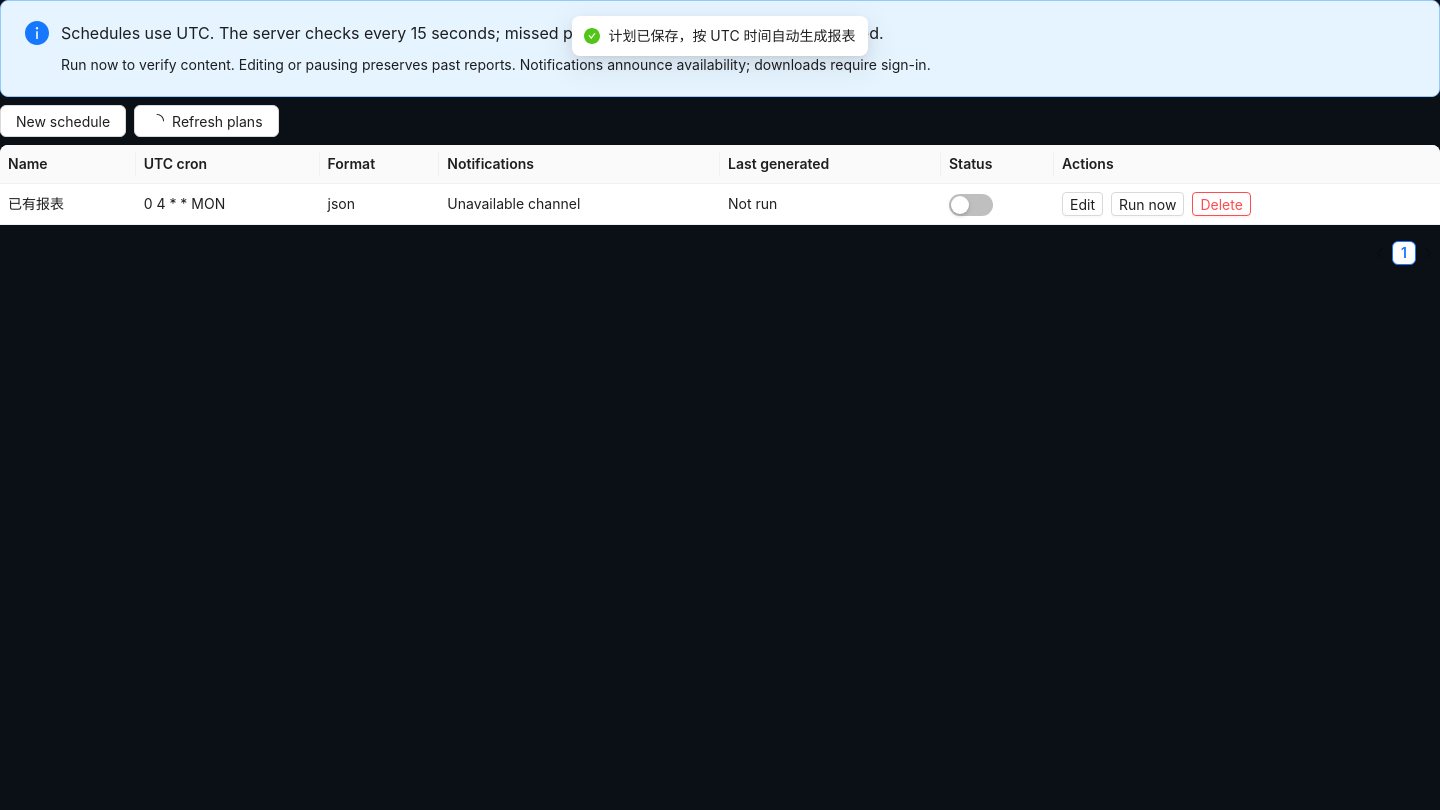
it: keeps the edited form after a version conflict and does not report success
Click the button "Edit" at coordinates (1083, 204), box x1=1062 y1=192 x2=1103 y2=216
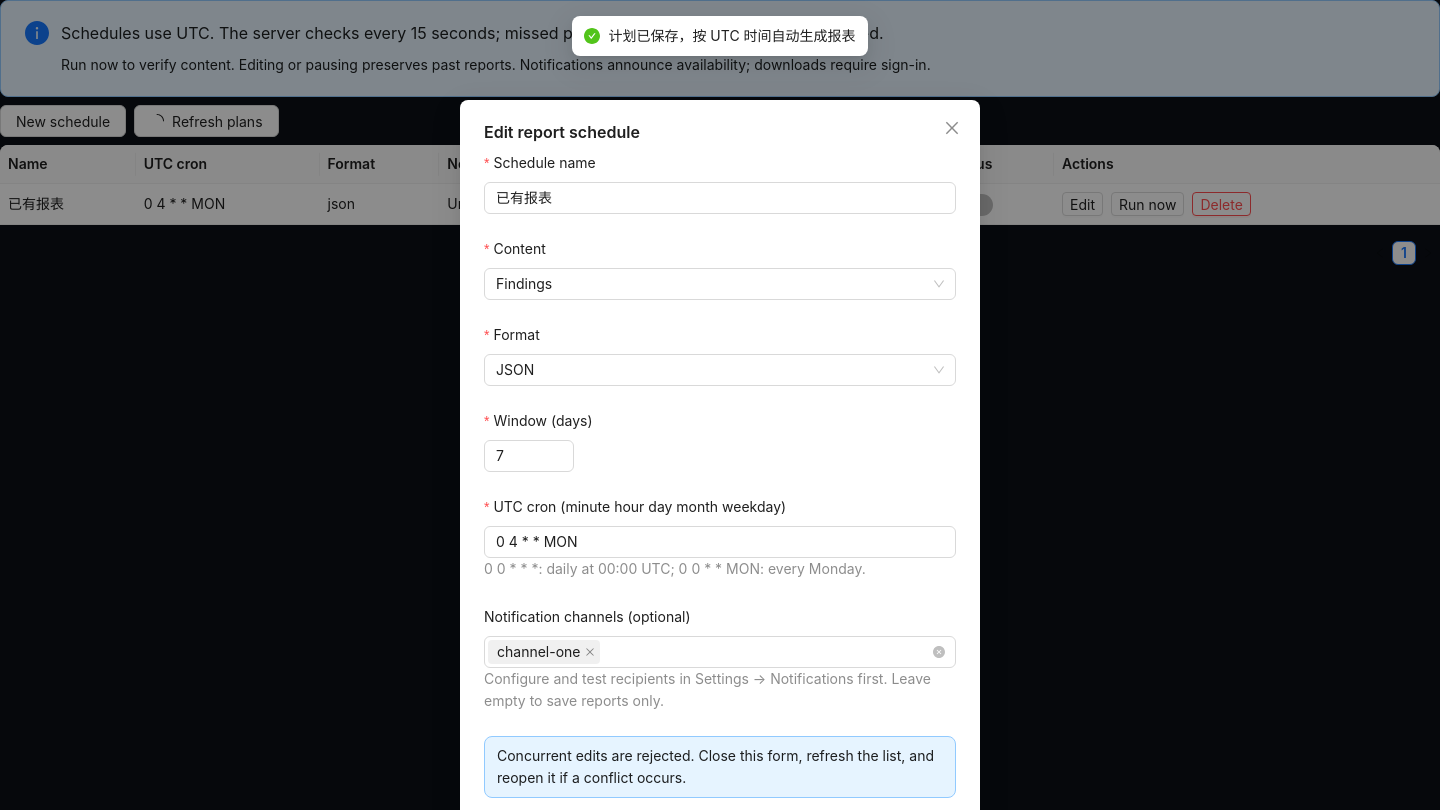
Replace the text in the field labelled "Schedule name" with "Unsaved edit" at coordinates (720, 198), box x1=484 y1=182 x2=956 y2=214
(page scrolled)
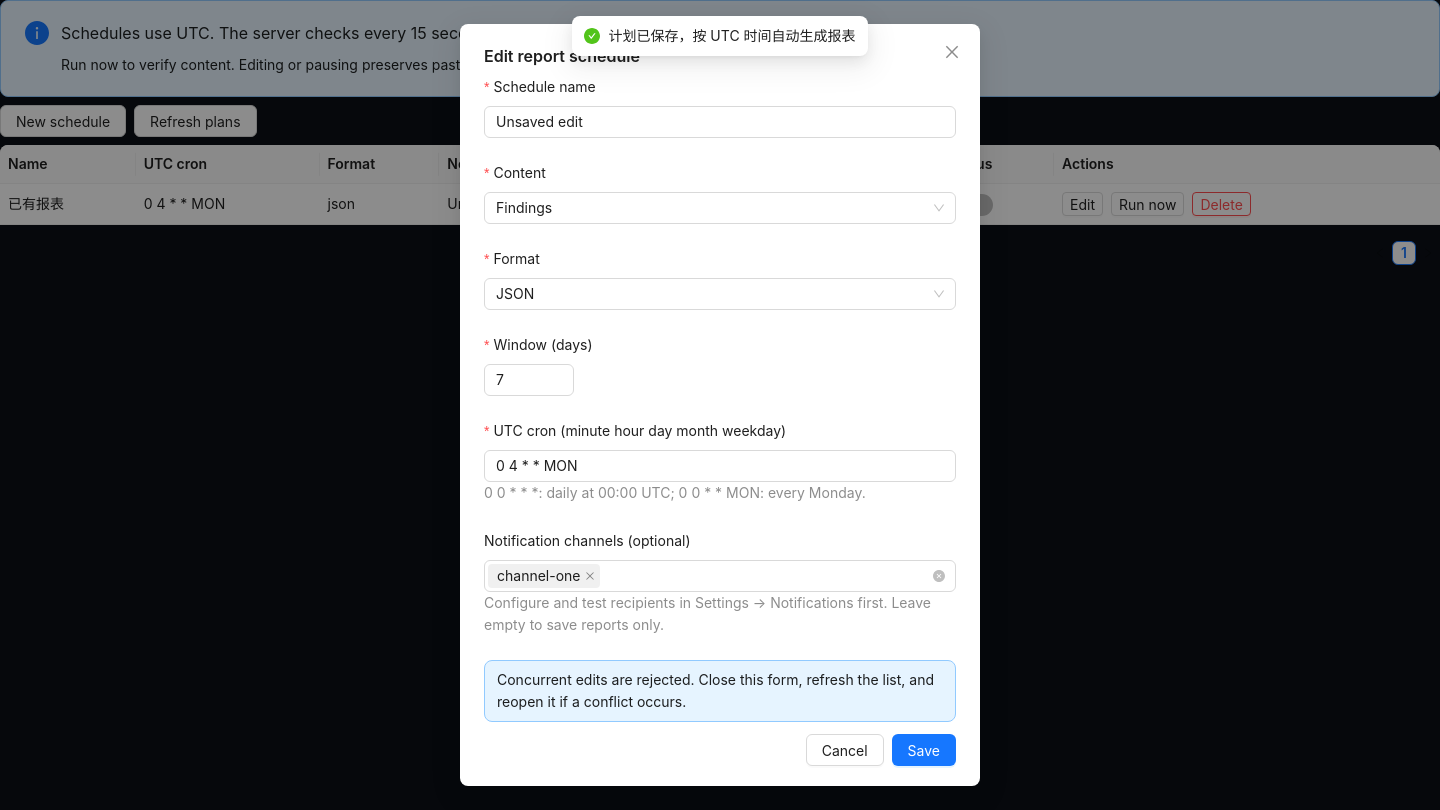
Click the button "Save" at coordinates (924, 750), box x1=892 y1=734 x2=956 y2=766
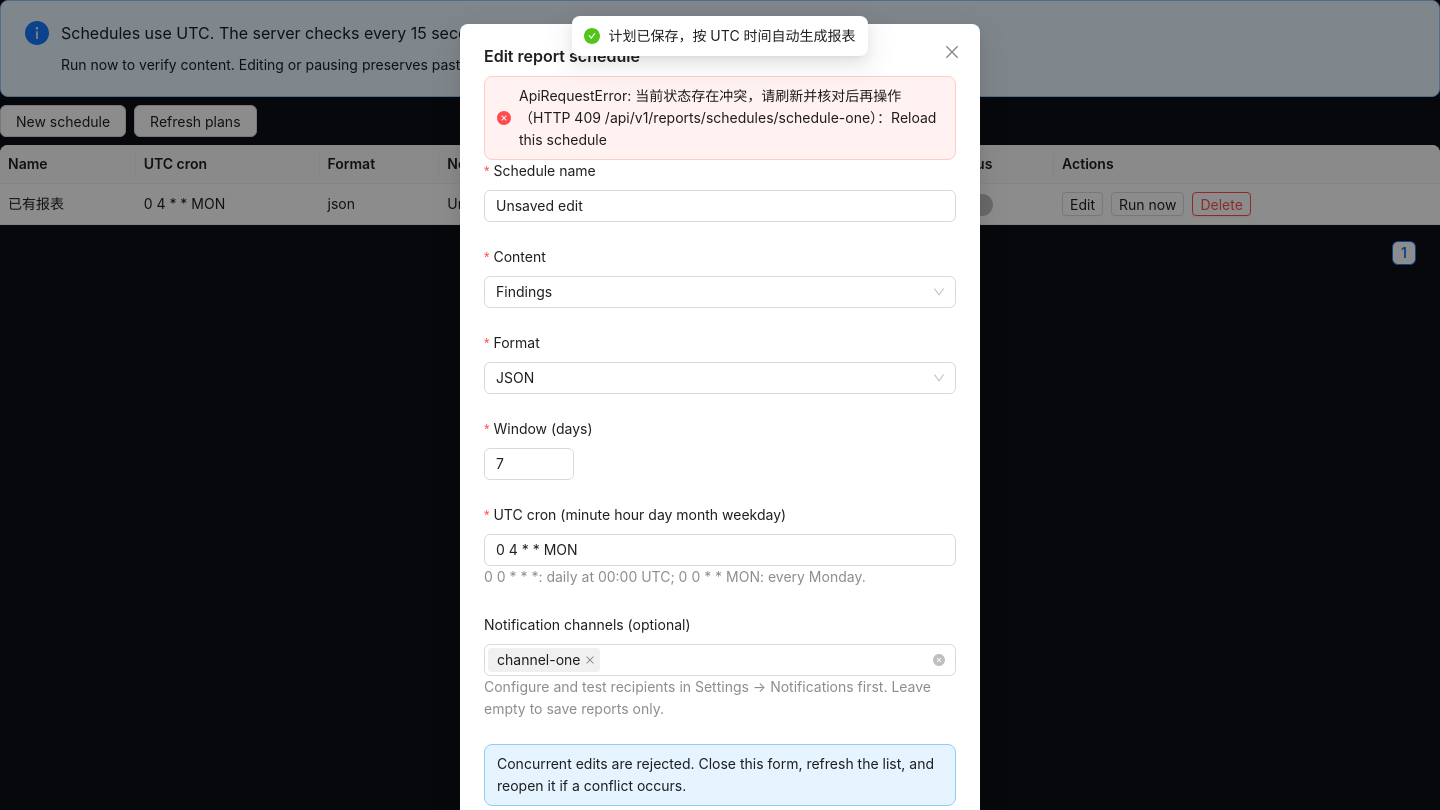
Expected: the text "Reload this schedule" is shown, x1=519 y1=87 x2=936 y2=148
